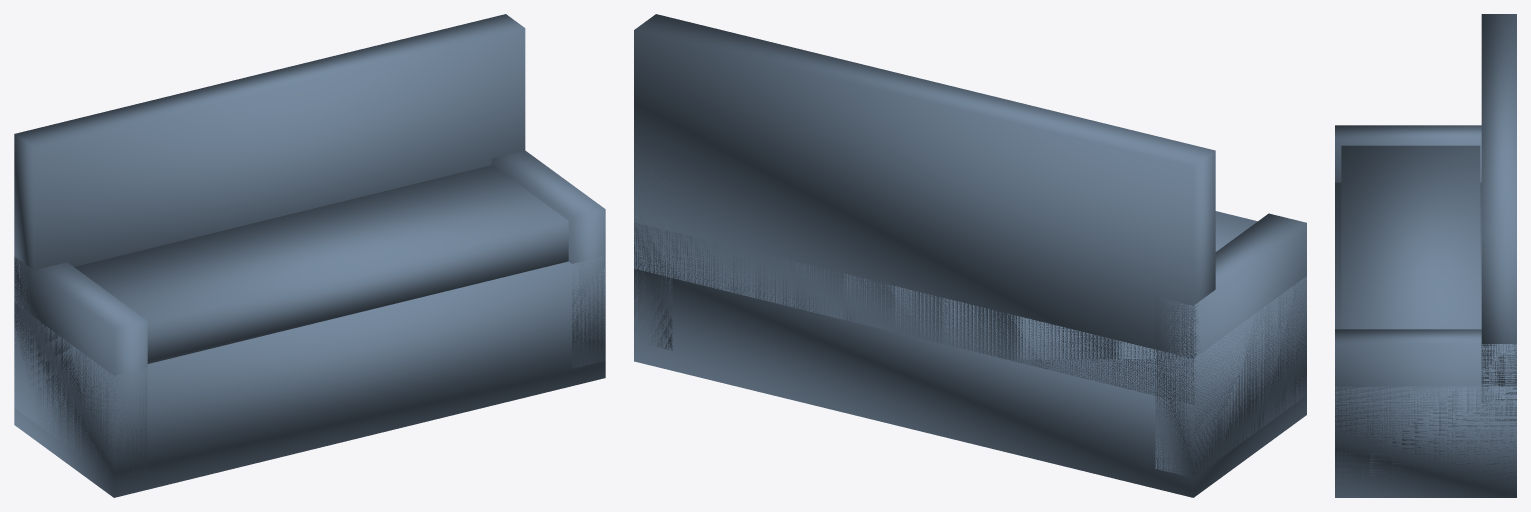
The model's file is sofa__tall.glb.
3 views of the same model, side by side, from view 1: azimuth 30°, elevation 25°; view 2: azimuth 150°, elevation 25°; view 3: azimuth 270°, elevation 25° (orthographic). The views are drawn at different scales.
Parts seen in each view (by area): view 1: world; view 2: world; view 3: world.
Part boxes in pixels (x1=…): world: x1=14, y1=14, x2=605, y2=497; world: x1=634, y1=14, x2=1306, y2=497; world: x1=1335, y1=14, x2=1516, y2=497.
Size of the model in its own units: 2.05 by 1.19 by 0.72.
